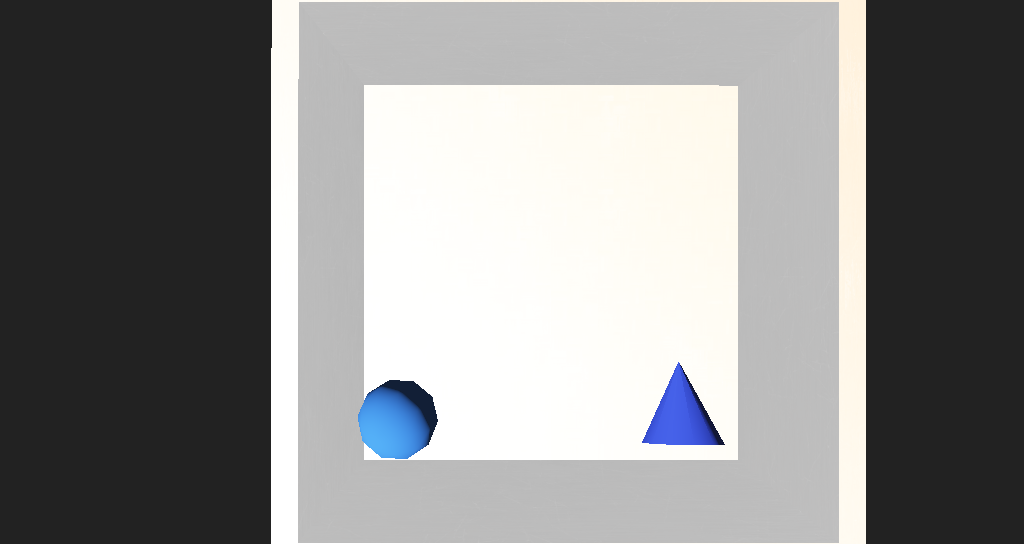cone: (825, 425, 926, 492)
cylinder: (573, 313, 640, 375)
sphere: (354, 332, 414, 375)
